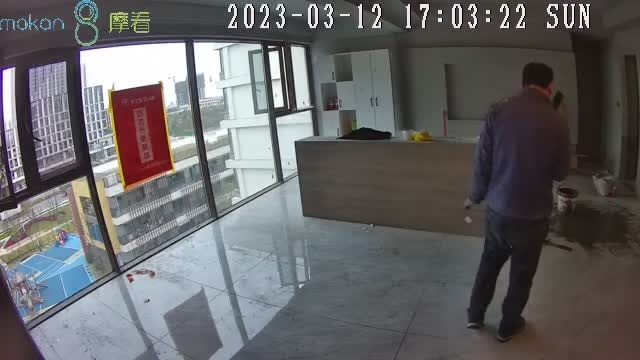people: (465, 63, 569, 345)
window: (3, 40, 318, 320)
